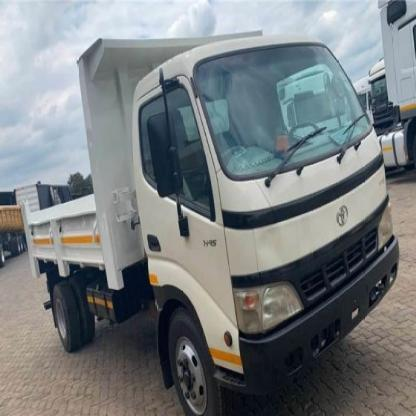dump_truck: (19, 14, 399, 415)
